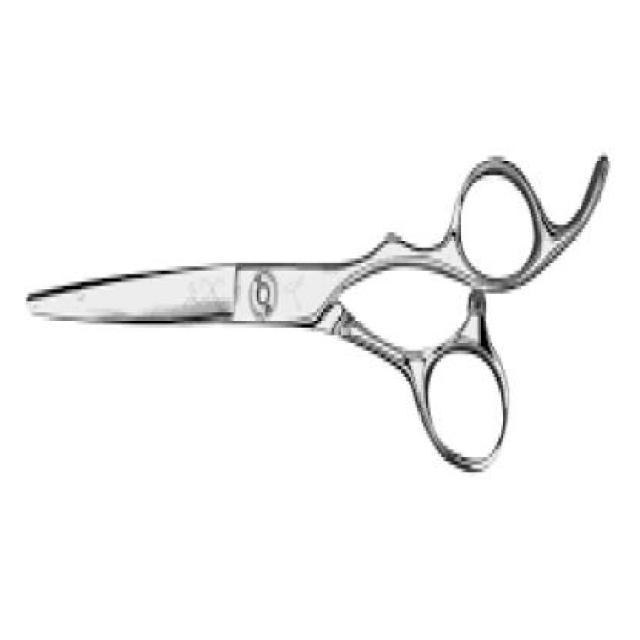scissors: (28, 148, 612, 476)
